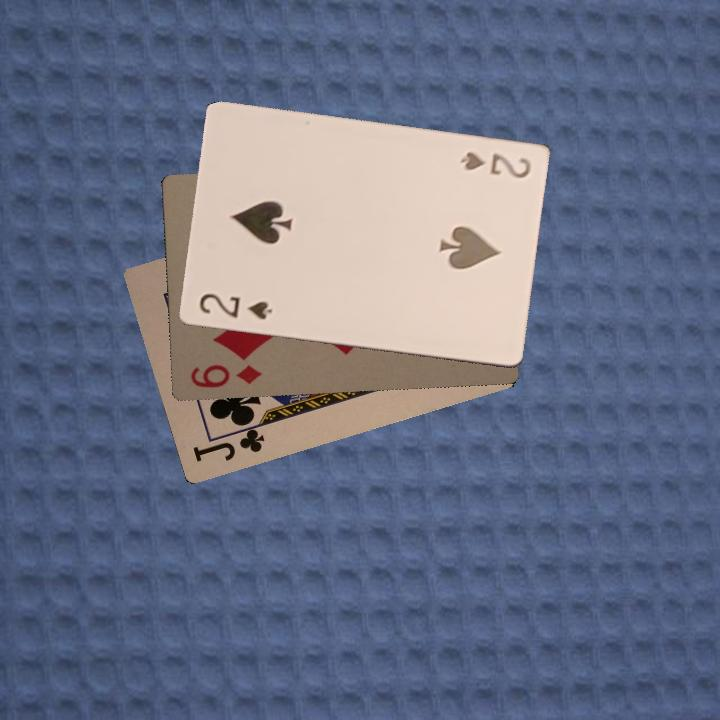2s: (456, 147, 533, 181), (195, 289, 273, 322)
6d: (186, 360, 264, 391)
Jc: (189, 417, 268, 465)
